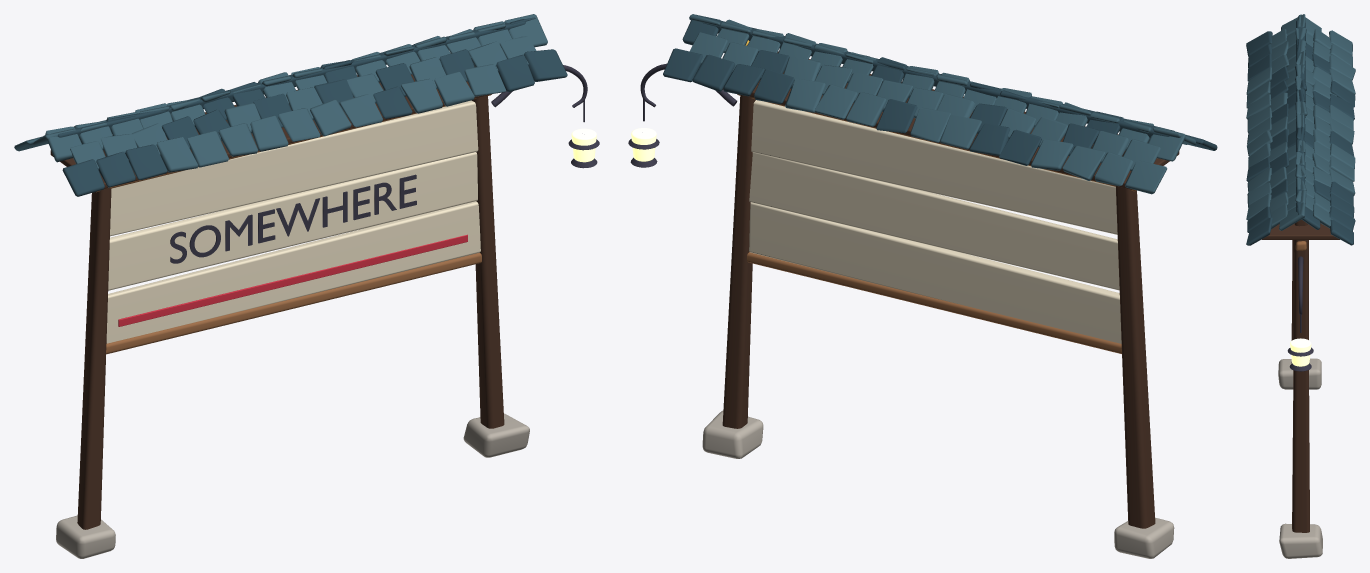
The model's file is station_sign.glb.
3 renders of one model, left to right at view 1: azimuth 30°, elevation 25°; view 2: azimuth 150°, elevation 25°; view 3: azimuth 270°, elevation 25°, orthographic. The views are drawn at different scales.
Visible parts, largest first — view 1: board_plank.002, board_plank, board_plank.001, post.008, post.009, frame_bottom, label, stripe, ridge.001, post_foot.001, post_foot, roof_front_t.244 (+18 smaller); view 2: board_plank, board_plank.001, board_plank.002, post.008, post.009, frame_bottom, post_foot.001, post_foot, ridge.001, roof_back_t.245, roof_back_t.253, roof_back_t.255 (+13 smaller); view 3: post.009, post_foot.001, rafter, post_foot, ridge.001, lantern_glass, roof_front_t.259, roof_back_t.244, roof_front_t.290, post.008, roof_front_t.244, roof_back_t.257 (+83 smaller).
Part boxes in pixels (left/top/right/bottom): board_plank.002: left=110, top=100, right=478, bottom=236; board_plank: left=106, top=201, right=480, bottom=343; board_plank.001: left=108, top=152, right=477, bottom=290; post.008: left=77, top=150, right=111, bottom=529; post.009: left=471, top=65, right=504, bottom=428; frame_bottom: left=106, top=252, right=481, bottom=354; label: left=170, top=174, right=416, bottom=263; stripe: left=118, top=234, right=467, bottom=326; ridge.001: left=58, top=21, right=525, bottom=137; post_foot.001: left=463, top=413, right=529, bottom=457; post_foot: left=56, top=515, right=115, bottom=558; roof_front_t.244: left=62, top=159, right=104, bottom=196; board_plank: left=749, top=202, right=1121, bottom=343; board_plank.001: left=749, top=152, right=1119, bottom=290; board_plank.002: left=751, top=100, right=1117, bottom=234; post.008: left=1115, top=150, right=1155, bottom=528; post.009: left=722, top=95, right=755, bottom=428; frame_bottom: left=747, top=252, right=1121, bottom=353; post_foot.001: left=702, top=410, right=763, bottom=458; post_foot: left=1114, top=517, right=1174, bottom=558; ridge.001: left=703, top=20, right=1174, bottom=137; roof_back_t.245: left=692, top=54, right=735, bottom=91; roof_back_t.253: left=940, top=114, right=981, bottom=149; roof_back_t.255: left=999, top=129, right=1041, bottom=165; post.009: left=1292, top=219, right=1309, bottom=532; post_foot.001: left=1279, top=523, right=1322, bottom=558; rafter: left=1261, top=223, right=1339, bottom=239; post_foot: left=1278, top=358, right=1321, bottom=389; ridge.001: left=1296, top=19, right=1305, bottom=211; lantern_glass: left=1290, top=338, right=1311, bottom=366; roof_front_t.259: left=1246, top=217, right=1272, bottom=245; roof_back_t.244: left=1330, top=219, right=1353, bottom=245; roof_front_t.290: left=1279, top=202, right=1305, bottom=230; post.008: left=1291, top=240, right=1308, bottom=363; roof_front_t.244: left=1246, top=31, right=1272, bottom=56; roof_back_t.257: left=1329, top=55, right=1355, bottom=80.
Size of the model in its own units: 3.96 by 2.91 by 0.8133.
